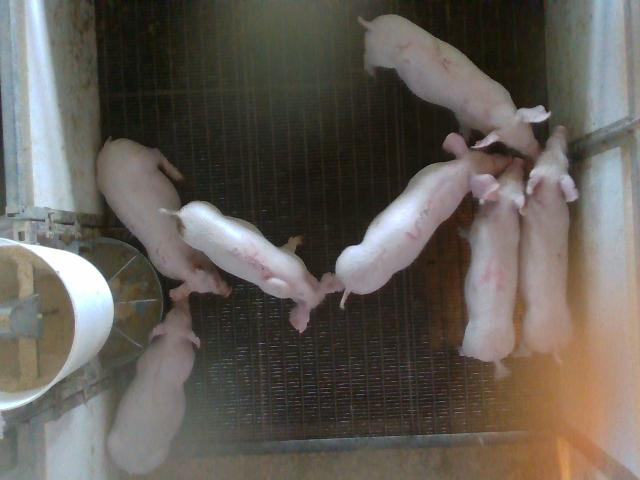pig-3: (335, 134, 511, 307)
pig-4: (459, 158, 525, 378)
pig-5: (160, 201, 344, 332)
